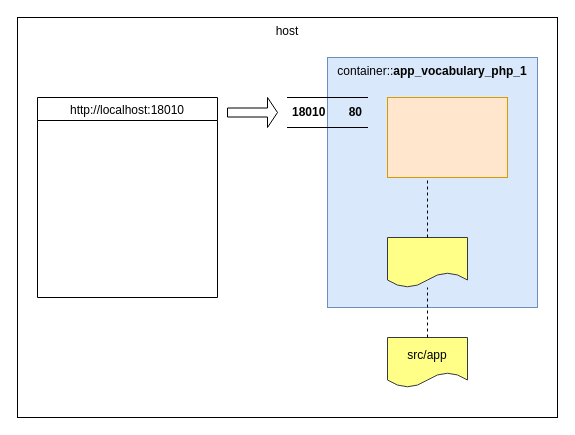
The diagram is 575 pixels wide and 435 high, and some of its shapes have lost their labels. The shapes that lost their labels are listed below. From the top down, each one's centre as x and y in pixels, then its label:
At point (447, 137): "webserver::apache interpreter::php".
At point (427, 262): "/app".
